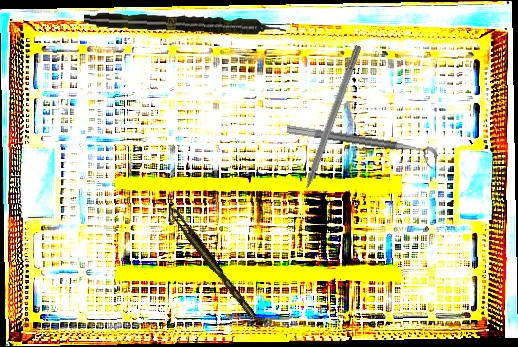Fixation Ring: (284, 124, 439, 170)
Handpiece: (83, 10, 287, 39)
Hook Surgical: (294, 43, 363, 209)
Tissue Forceps: (168, 205, 257, 323)
